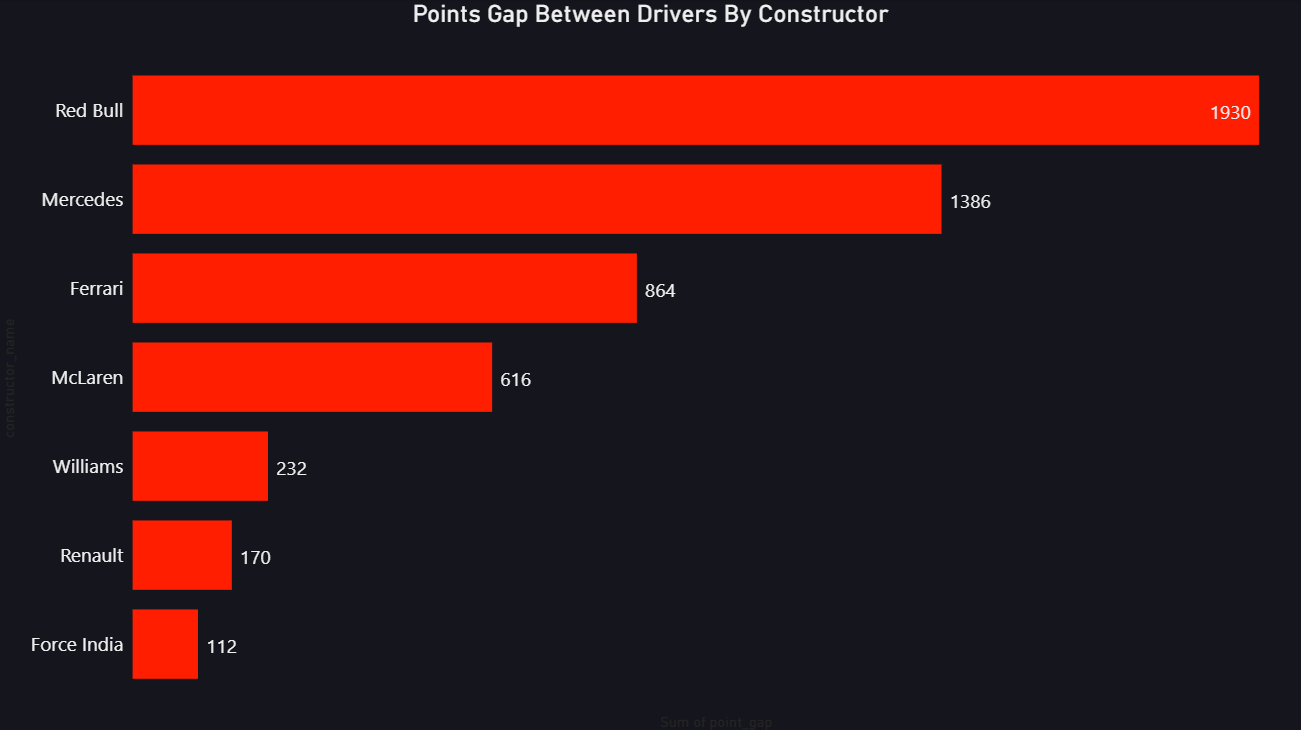

The page's visual inventory and layout, read from the dashboard file:
{"tool":"powerbi","page":{"name":"constructors points gap","canvas":[1280,720],"ordinal":2},"visuals":[{"type":"actionButton","box":[0,0,100,40],"z":0},{"type":"barChart","title":"Points Gap Between Drivers By Constructor","fields":{"Category":["better driver.constructor_name"],"Y":["Sum(better driver.point_gap)"]},"box":[0,0,1280.3,720.4],"z":1000}]}

Visuals, with their boxes in screenshot pixels (x1, y1, x2, y2), scaled from the page's 1280x720 canvas onto the 1301x730 screenshot:
actionButton: bbox(0, 0, 102, 41)
"Points Gap Between Drivers By Constructor" barChart: bbox(0, 0, 1300, 729)
